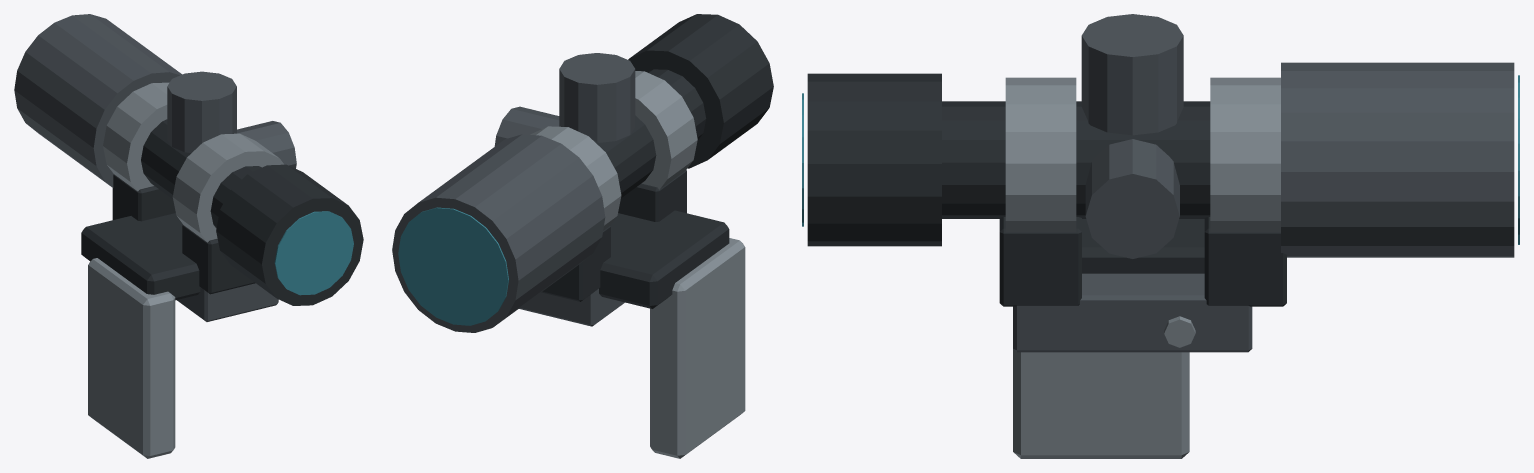
File: att_optic_side_scope.glb
3 renders of one model, left to right at view 1: azimuth 30°, elevation 25°; view 2: azimuth 150°, elevation 25°; view 3: azimuth 270°, elevation 25°, orthographic. The views are drawn at different scales.
Visible parts, largest first — view 1: Geometry_att_optic_side_scope; view 2: Geometry_att_optic_side_scope; view 3: Geometry_att_optic_side_scope.
Part boxes in pixels (box(x1,y1,x2,y2)): Geometry_att_optic_side_scope: box(14, 14, 363, 458); Geometry_att_optic_side_scope: box(392, 14, 773, 458); Geometry_att_optic_side_scope: box(802, 14, 1519, 458).
Bounding box in the file's own units: 0.076 × 0.133 × 0.1829.
